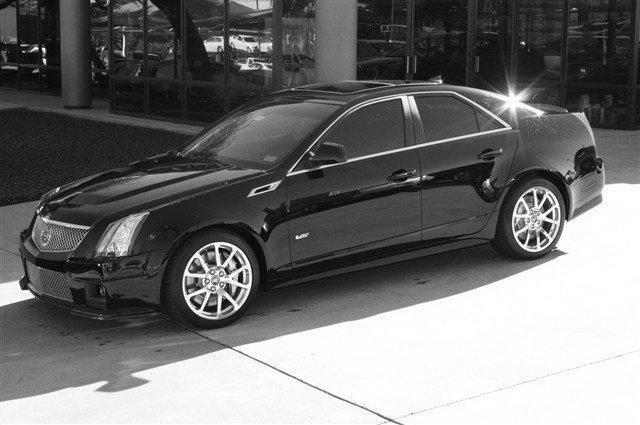car: (15, 71, 610, 334)
